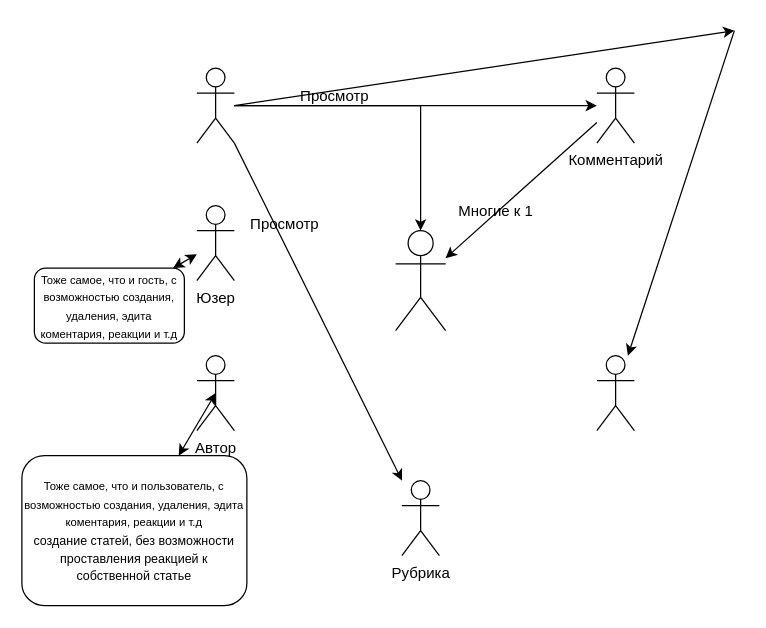
Some shapes in this 766 by 628 pixel diagram are drawn without their labels. Here are the shapes that lost their labels. From the top down, the centre of each, then its label:
point 215,105: Гость
point 420,280: Статья
point 615,392: Реакция
